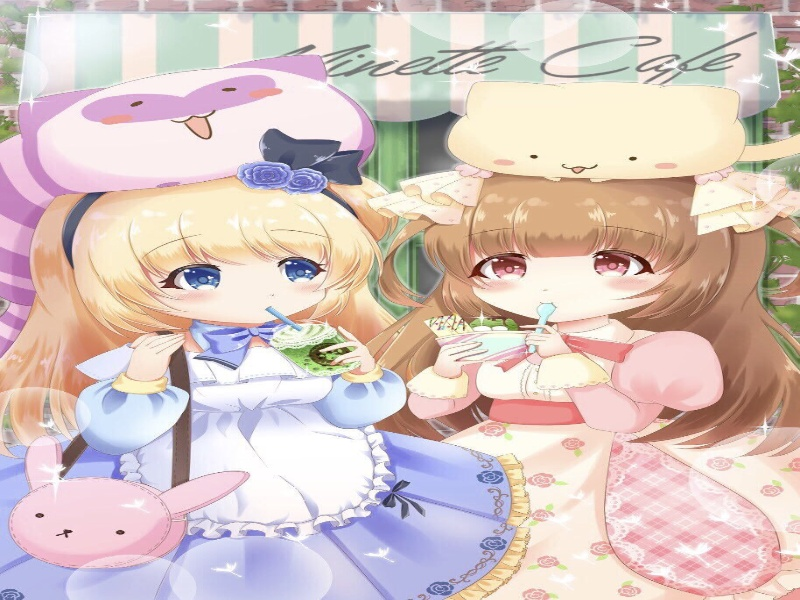flower: (235, 160, 296, 189), (288, 168, 331, 198), (702, 452, 745, 477), (474, 418, 514, 442), (586, 538, 619, 563), (611, 577, 646, 600), (476, 534, 510, 556), (423, 577, 460, 597), (523, 472, 559, 491), (474, 470, 509, 489), (517, 583, 553, 600), (758, 480, 785, 499), (529, 507, 557, 525), (559, 436, 587, 452), (533, 555, 565, 569), (782, 517, 800, 533)
